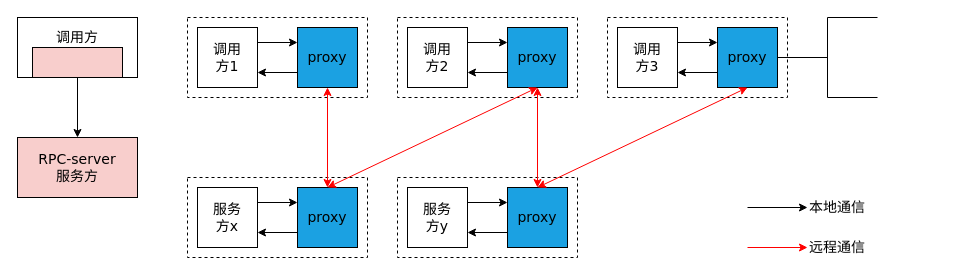
This 973x275 diagram has some shape labels left out. Each missing label, with the centre of its shape:
"RPC-client" belongs at (x=77, y=62).
"负载均衡 统一监控与告警 服务发现，服务治理 调用链拓扑" belongs at (x=852, y=57).
